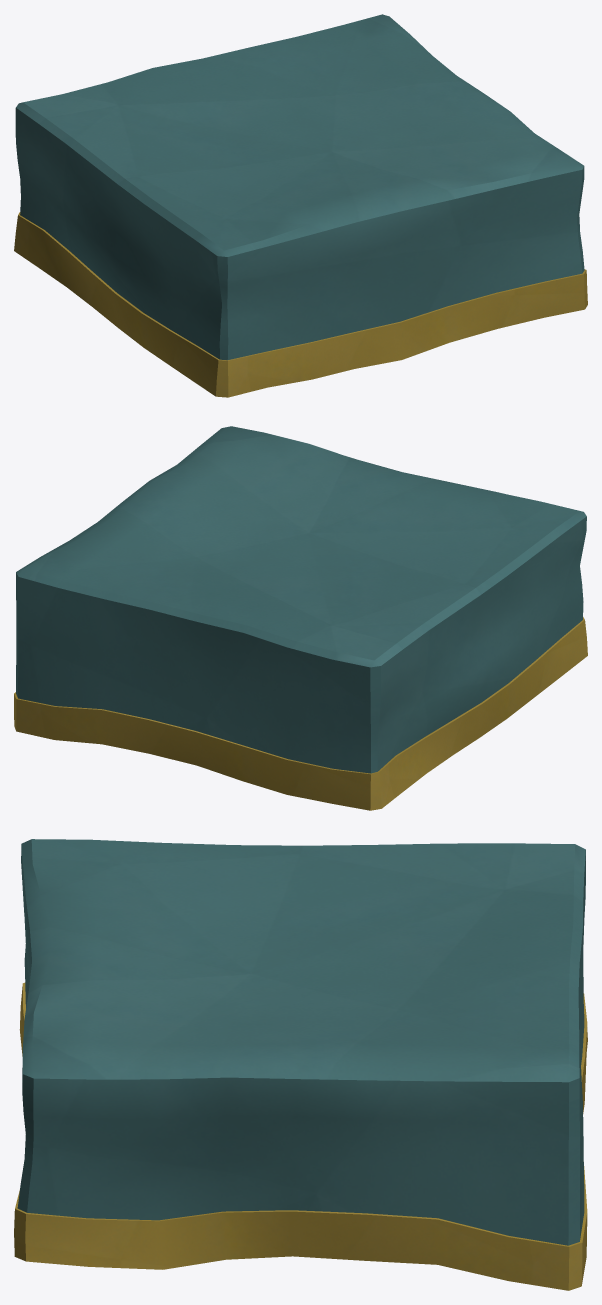
File: SM_Box_Wrapped_Small_01.fbx
3 renders of one model, top to bottom at view 1: azimuth 30°, elevation 25°; view 2: azimuth 150°, elevation 25°; view 3: azimuth 270°, elevation 25°, orthographic. The views are drawn at different scales.
Parts seen in each view (by area): view 1: SM_Box_Wrapped_Small_01; view 2: SM_Box_Wrapped_Small_01; view 3: SM_Box_Wrapped_Small_01.
Part boxes in pixels (bbox=[...]): SM_Box_Wrapped_Small_01: bbox=[14, 14, 587, 397]; SM_Box_Wrapped_Small_01: bbox=[14, 426, 587, 810]; SM_Box_Wrapped_Small_01: bbox=[14, 839, 587, 1290].
Bounding box in the file's own units: 129 × 53 × 128.
